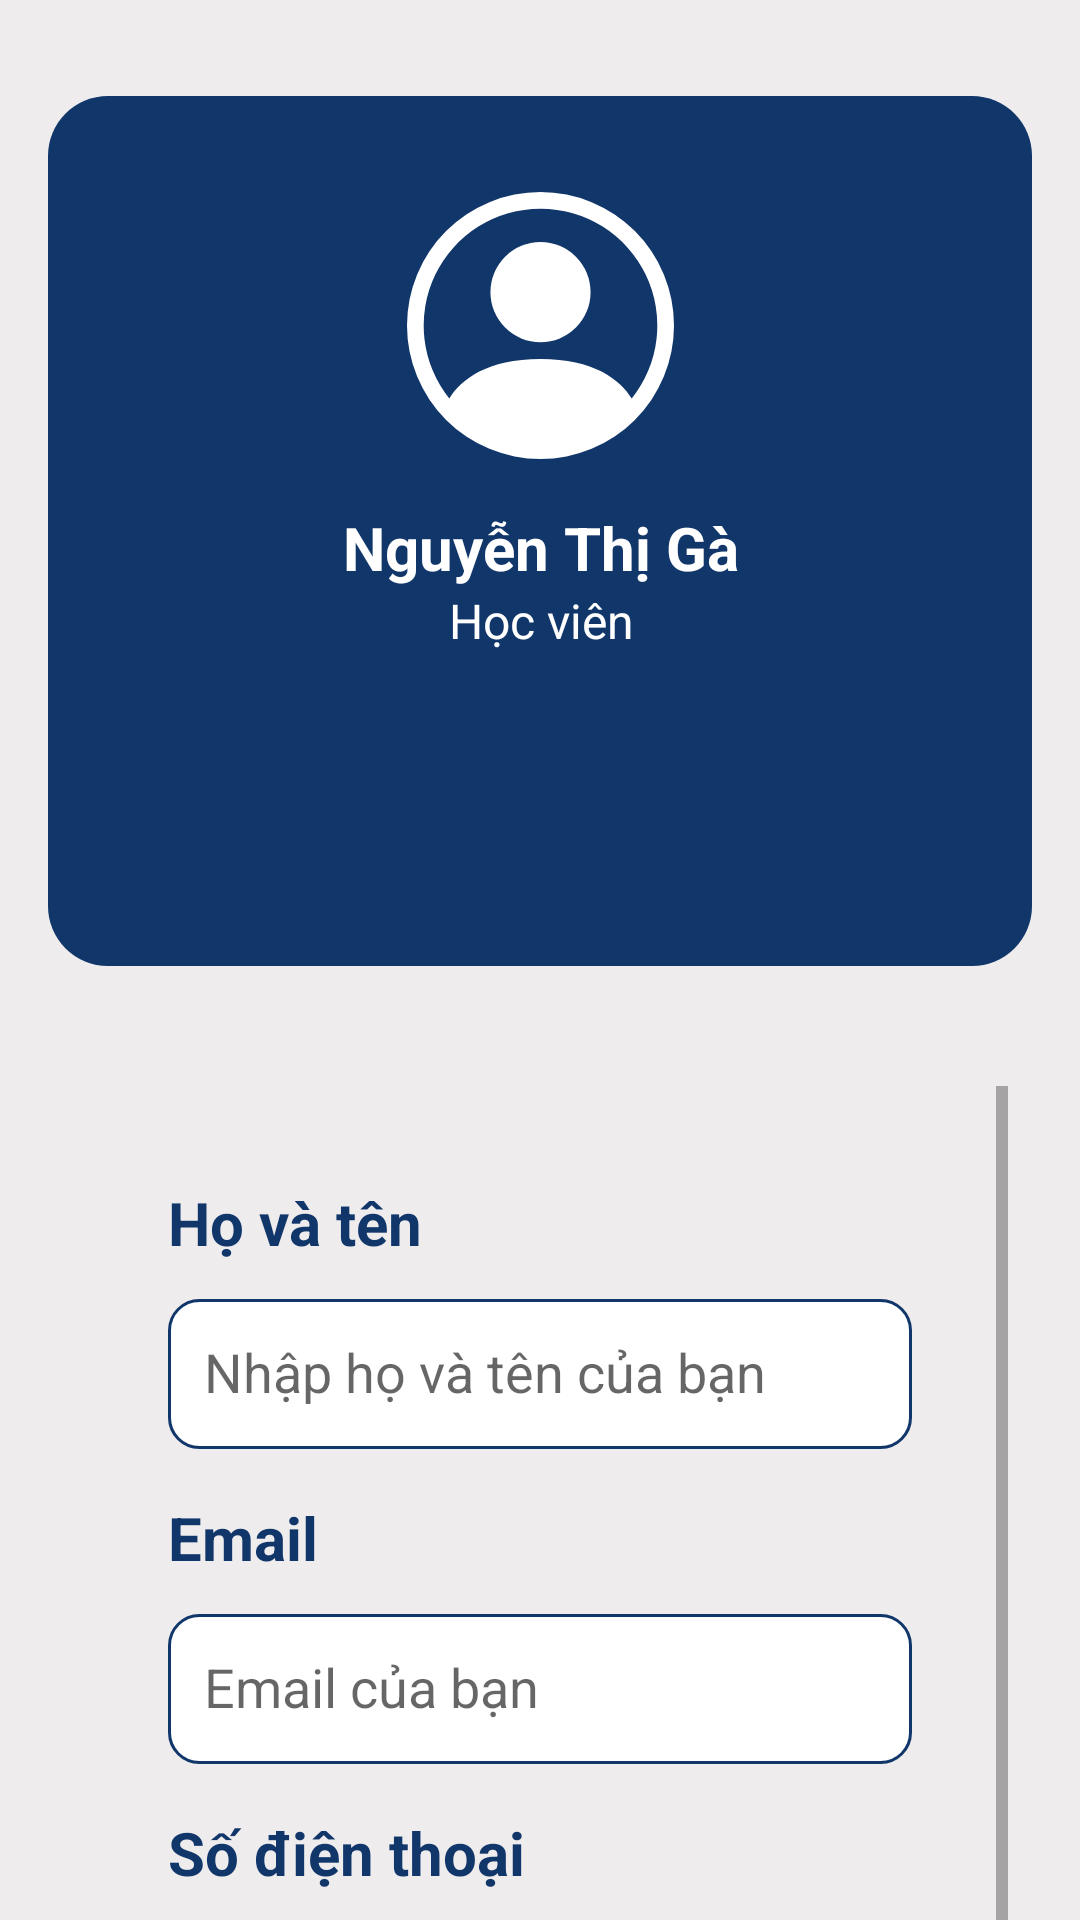

Screen size 1080×1920. Icon name, then its box in pixels as bbox=(x1, y1, x2, y2):
person circle: bbox=(407, 192, 674, 459)
